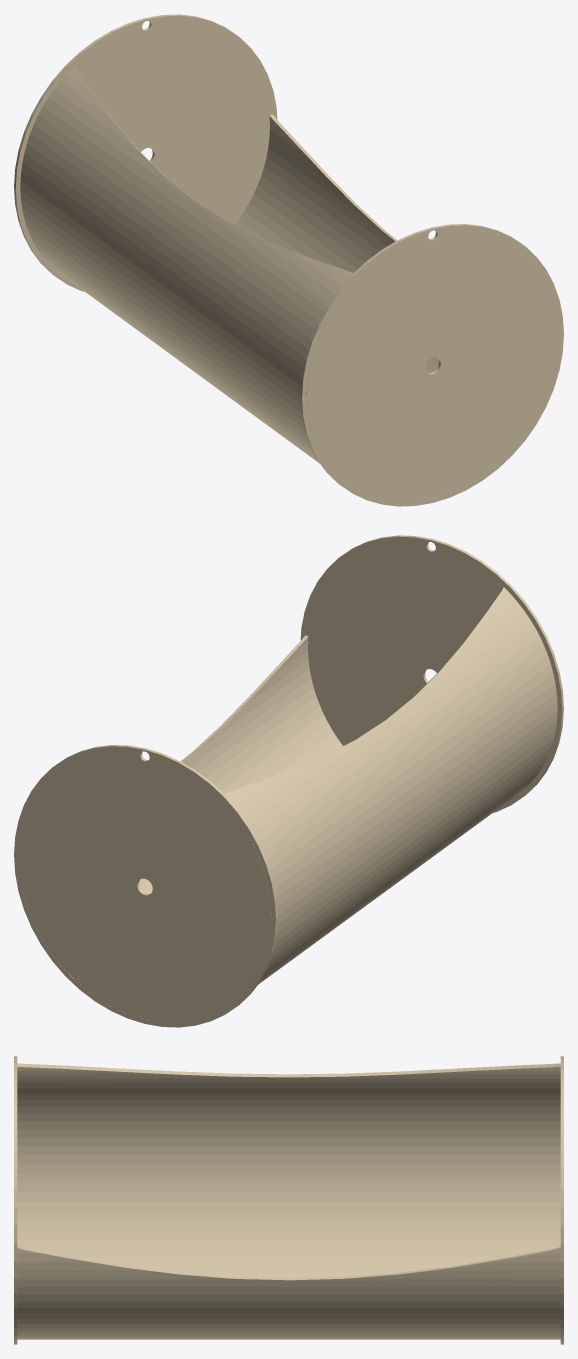
The model's file is samla.glb.
The picture shows the model from 3 angles, top to bottom: view 1: azimuth 30°, elevation 25°; view 2: azimuth 150°, elevation 25°; view 3: azimuth 270°, elevation 25°; orthographic projection. The views are drawn at different scales.
Visible parts, largest first — view 1: slicer-rullstemning; view 2: slicer-rullstemning; view 3: slicer-rullstemning.
Part boxes in pixels (x1,y1,x2,y2): slicer-rullstemning: [14, 14, 563, 506]; slicer-rullstemning: [14, 535, 563, 1027]; slicer-rullstemning: [14, 1056, 563, 1344].
Size of the model in its own units: 0.168 by 0.168 by 0.32.
